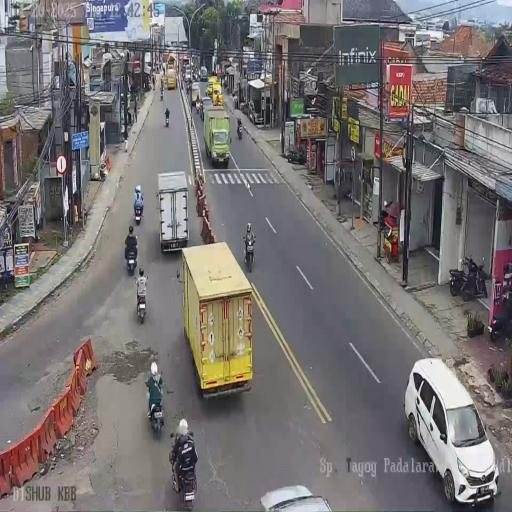car: (404, 358, 498, 503), (260, 484, 333, 512), (206, 76, 220, 98), (201, 95, 213, 119), (200, 66, 207, 80), (185, 66, 191, 82)
motorcycle: (172, 443, 198, 509), (489, 270, 512, 338), (460, 255, 488, 302), (147, 386, 164, 434), (135, 282, 147, 324), (449, 267, 466, 296), (244, 232, 255, 272), (125, 242, 137, 276), (286, 148, 306, 165), (134, 200, 142, 224), (239, 98, 248, 116), (164, 108, 170, 128), (232, 90, 238, 110), (237, 120, 242, 140), (195, 93, 200, 113), (160, 85, 164, 100), (186, 81, 190, 94)
truck: (180, 242, 254, 395), (157, 171, 190, 253), (205, 108, 232, 168), (166, 56, 177, 89)
